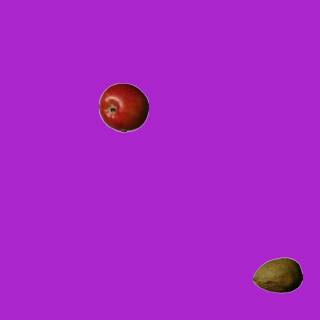Apple Braeburn: (98, 82, 148, 132)
Papaya: (252, 250, 302, 300)
